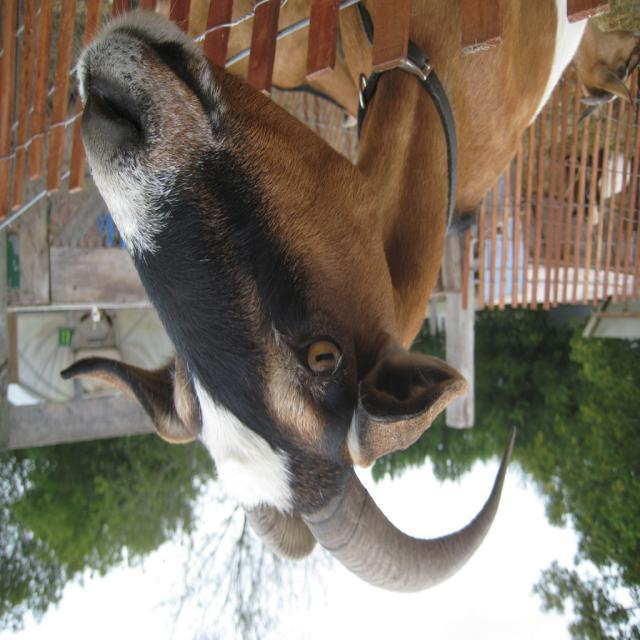Goat: (60, 2, 589, 596)
